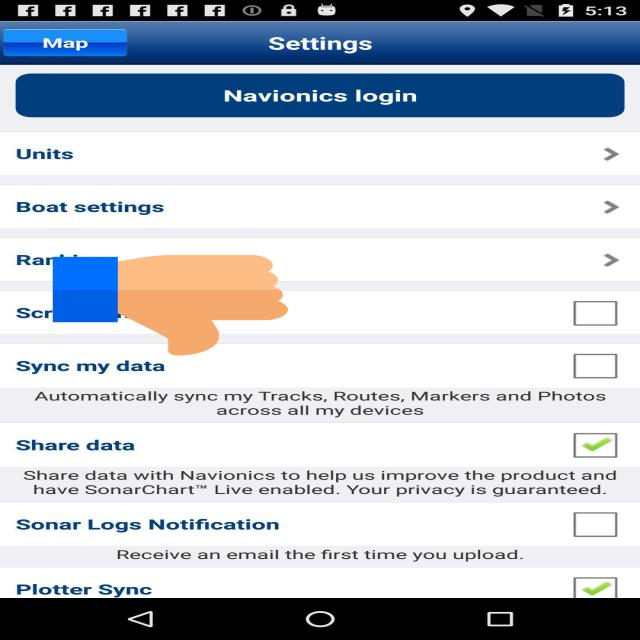obstruction: (53, 252, 288, 358)
